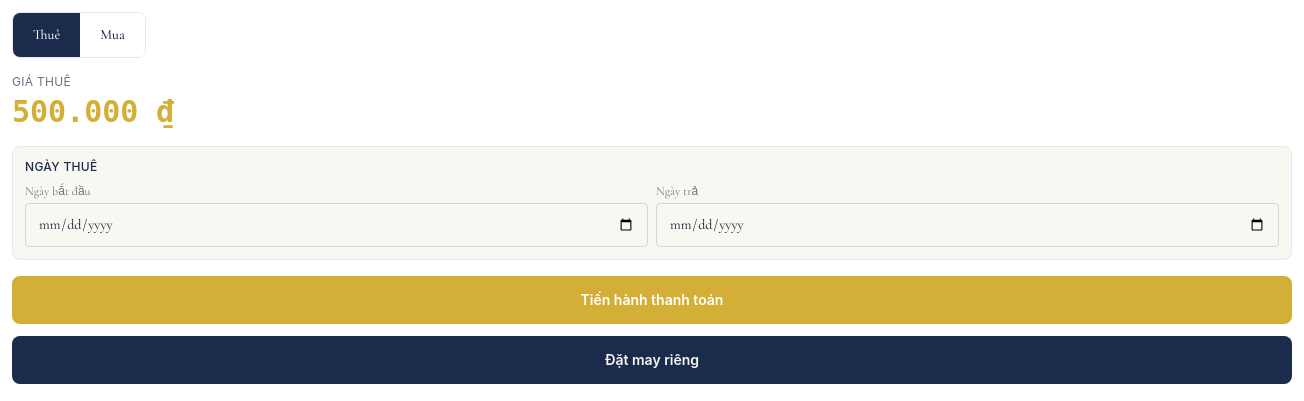
Test: BuyRentToggle (Story 2.2) › should display sale price label when mode switches to Mua
The width and height of the screenshot is (1304, 401).
Click the radio button labelled "Mua" at (112, 35), box x1=80 y1=13 x2=145 y2=57
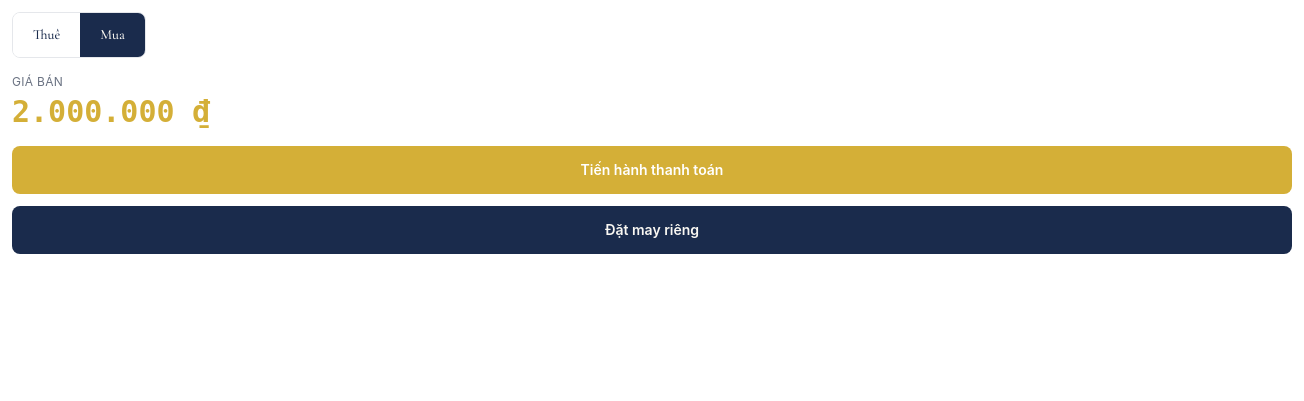
Check: the text "Giá bán" is shown, box x1=12 y1=74 x2=63 y2=89
